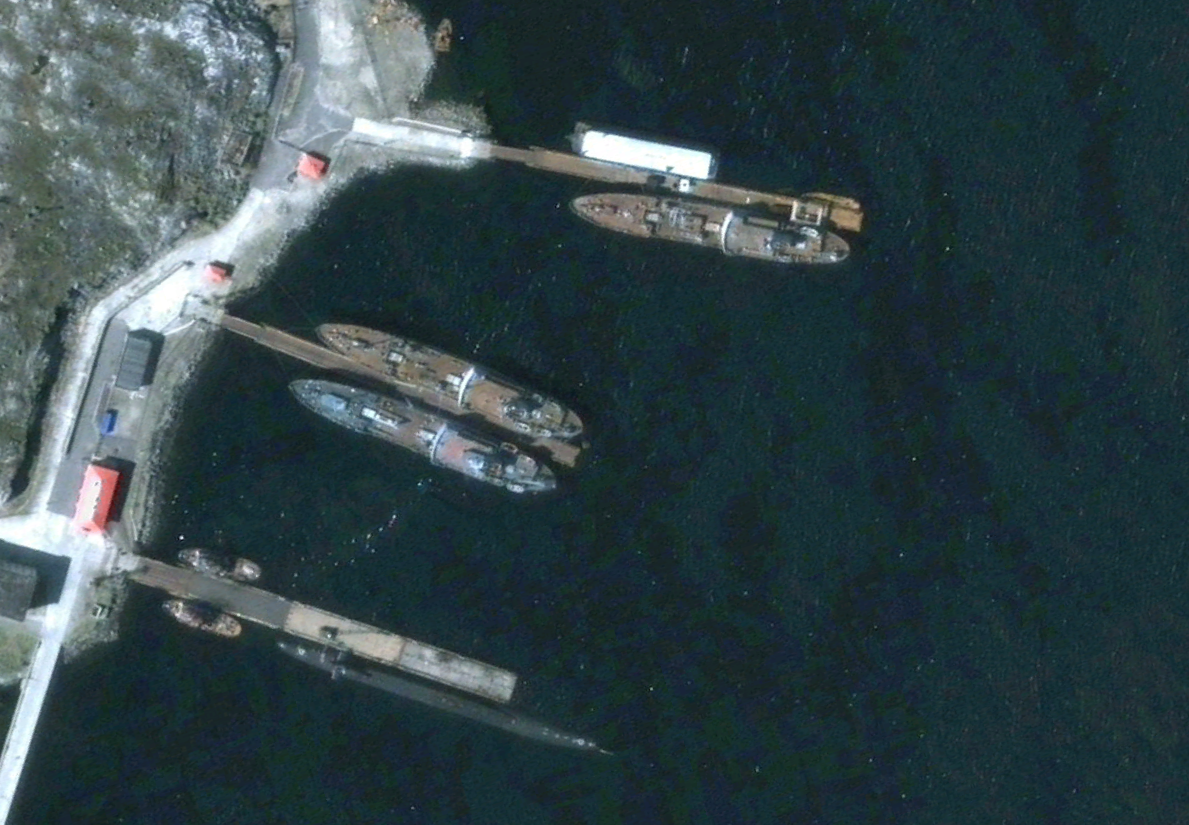merchant ship: (311, 317, 582, 439), (287, 375, 558, 495), (570, 189, 850, 265), (158, 597, 242, 638), (174, 544, 262, 578)
submarine: (276, 634, 613, 755)
